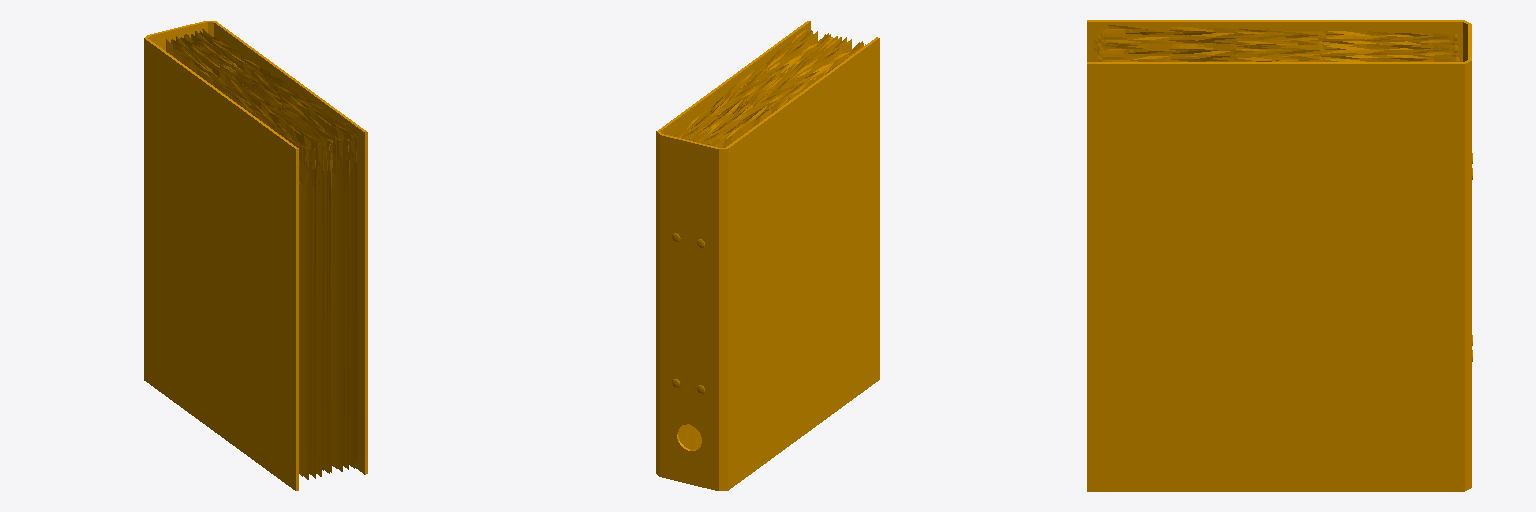
URDF robot description (black_book):
<?xml version="1.0"?>
<!-- GENERATED by tasks/libero/build_env/build_object_urdf.py. Do not hand edit.

     LIBERO object `black_book`, spawnable by the TRO-MP env.
     Role: graspable target object (envs/), one of the 22 LIBERO target assets.

     WHY a URDF when envs/black_book/ may also hold a USD: this env spawns objects
     only through `assets.object_urdf` (scene_utils.py:1929, which calls
     _convert_urdf_to_usd at :1964). The assets dataclass declares no USD field,
     so a ready-made USD cannot be handed to this code path.

     Mesh coordinates are PRESERVED, not re-centred: 11 of 22 LIBERO envs have
     their mesh origin at the object's base, and `goal_traj` tracks that origin.
     Re-centring would offset the object from its own trajectory every frame.

     Mass: density 800.0 kg/m^3 x mesh volume 3.018934e-05 m^3
     Inertia: solid-box approximation about the COM at that mass, NOT the true
     mesh inertia tensor. Adequate for a graspable tabletop object; revisit if
     spin dynamics matter.

     Collision: the full mesh, decomposed by Isaac's URDF importer. The convex
     decomposition authored in the DexVerse USD is NOT reproduced here.
-->
<robot name="black_book">
  <link name="black_book">
    <inertial>
      <origin xyz="0.000522 -0.003337 0.074836" rpy="0 0 0"/>
      <mass value="0.024151"/>
      <inertia ixx="6.428690e-05" ixy="0" ixz="0" iyy="4.027325e-05" iyz="0" izz="2.768280e-05"/>
    </inertial>
    <visual>
      <origin xyz="0 0 0" rpy="0 0 0"/>
      <geometry><mesh filename="black_book.obj" scale="1 1 1"/></geometry>
    </visual>
    <collision>
      <origin xyz="0 0 0" rpy="0 0 0"/>
      <geometry><mesh filename="black_book.obj" scale="1 1 1"/></geometry>
    </collision>
  </link>
</robot>

--- What the picture shows (computed from the rendered views, not written in the file) ---
3 views of the same robot in one strip: view 1: azimuth 30°, elevation 25°; view 2: azimuth 150°, elevation 25°; view 3: azimuth 270°, elevation 25° (orthographic).
Model black_book with 1 links and 0 joints (none), rooted at black_book, posed every joint at zero.
Links seen in each view (by area): view 1: black_book; view 2: black_book; view 3: black_book.
Boxes of the visible links, x1,y1,x2,y2 form: black_book: (144,21,367,490); black_book: (656,21,879,490); black_book: (1087,20,1472,491).
Bounding box of the posed robot: 0.0302 × 0.1133 × 0.1382 m (x, y, z).
1 mesh visuals loaded from 1 distinct referenced files (1 OBJ).
